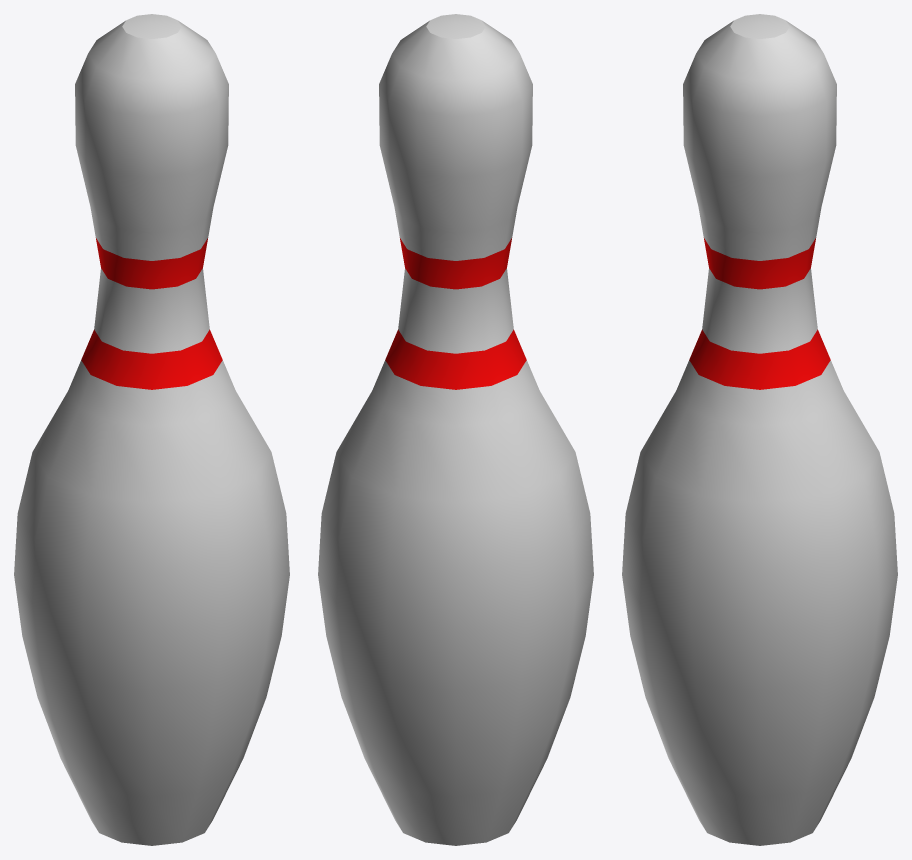
File: Pin.fbx
The picture shows the model from 3 angles, left to right: view 1: azimuth 30°, elevation 25°; view 2: azimuth 150°, elevation 25°; view 3: azimuth 270°, elevation 25°; orthographic projection.
Visible parts, largest first — view 1: Pin; view 2: Pin; view 3: Pin.
Boxes of the visible parts, x1,y1,x2,y2 form: Pin: (14,14,289,845); Pin: (318,14,593,845); Pin: (622,14,897,845).
Bounding box in the file's own units: 11.92 × 38 × 11.92.
